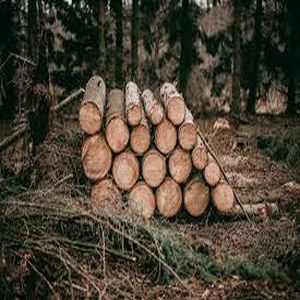log: (80, 137, 112, 178), (183, 179, 210, 220), (112, 152, 139, 188), (77, 101, 103, 136), (157, 184, 183, 218), (106, 116, 130, 152), (143, 152, 168, 186), (169, 150, 193, 182), (156, 120, 178, 152), (129, 124, 152, 154), (213, 182, 235, 213), (166, 96, 187, 124), (179, 123, 197, 150), (204, 163, 221, 186), (126, 105, 143, 125), (192, 149, 208, 170), (149, 102, 164, 123)
